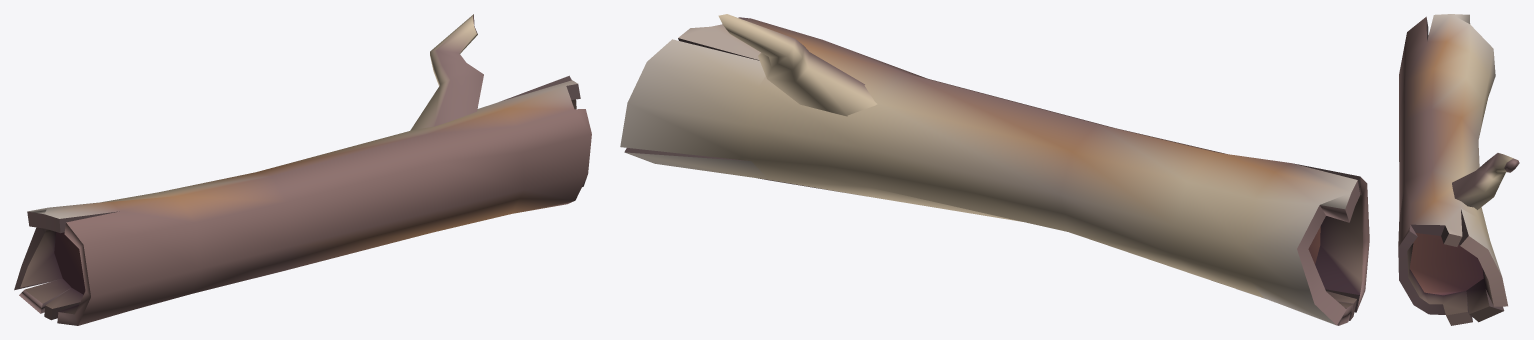
The model's file is FallenOverTreeTrunk.fbx.
3 renders of one model, left to right at view 1: azimuth 30°, elevation 25°; view 2: azimuth 150°, elevation 25°; view 3: azimuth 270°, elevation 25°, orthographic. The views are drawn at different scales.
Parts seen in each view (by area): view 1: FallenOverTreeTrunk; view 2: FallenOverTreeTrunk; view 3: FallenOverTreeTrunk.
Part boxes in pixels (bbox=[...]): FallenOverTreeTrunk: bbox=[14, 14, 591, 325]; FallenOverTreeTrunk: bbox=[620, 14, 1369, 325]; FallenOverTreeTrunk: bbox=[1398, 14, 1519, 325].
Size of the model in its own units: 265 by 72.27 by 57.91.
